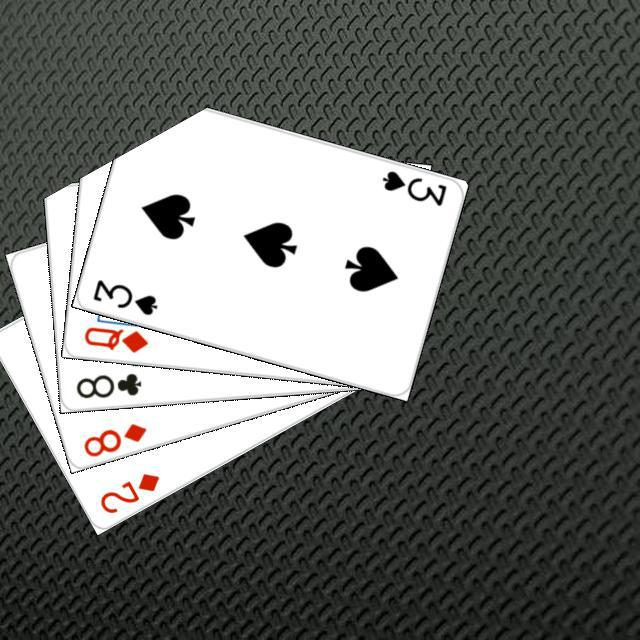2d: (95, 468, 162, 515)
3s: (377, 165, 449, 208), (88, 274, 159, 317)
8c: (71, 368, 144, 400)
8d: (78, 418, 148, 459)
Qd: (79, 321, 150, 354)
